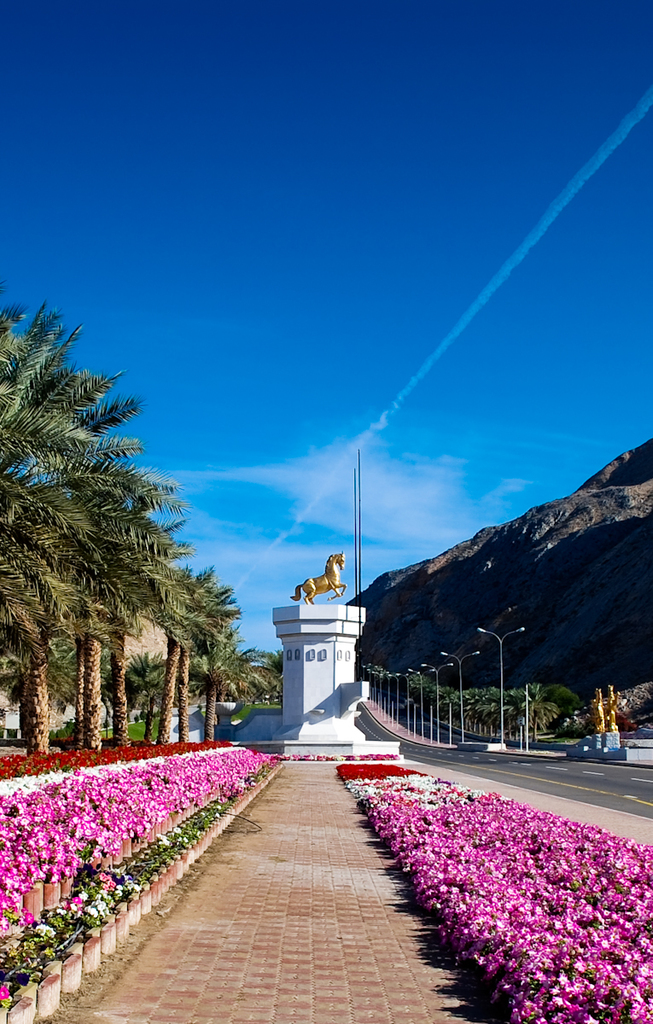Tree: (30, 366, 249, 742), (367, 666, 577, 733)
